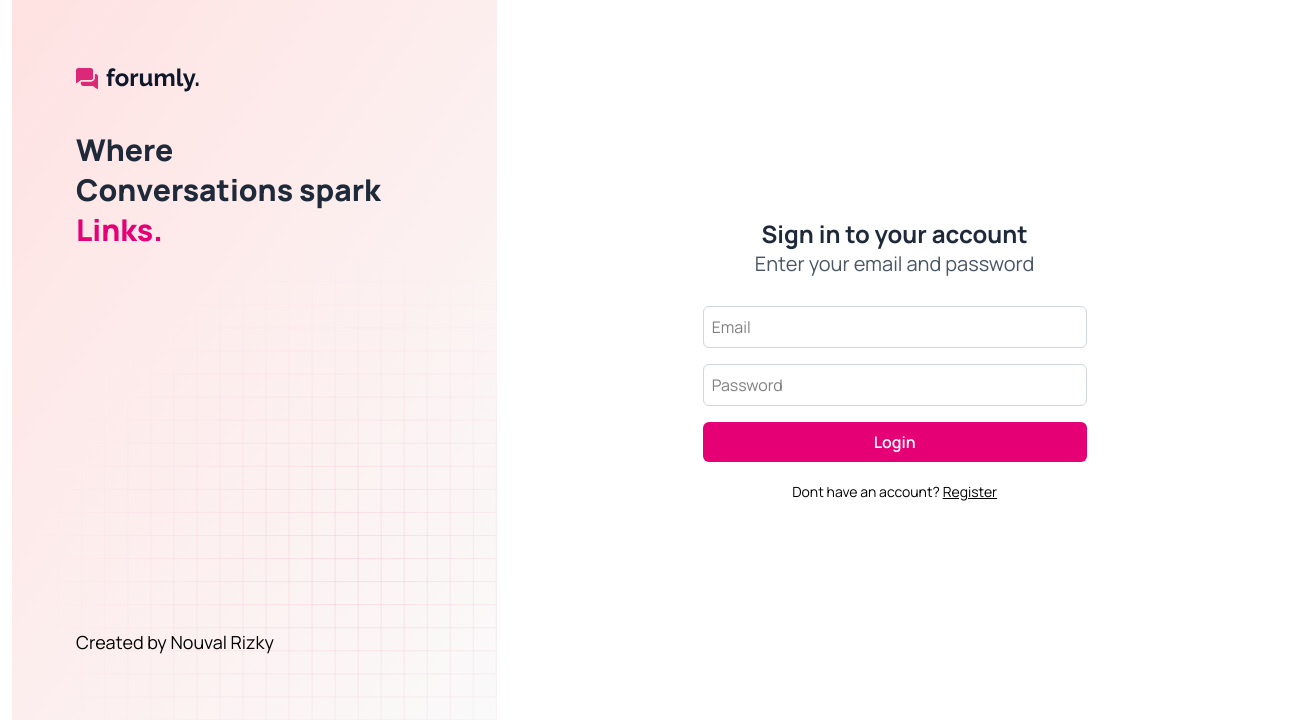
Test: Login spec › should display error message when email is empty
Click the button "Login": (895, 442) top-left (703, 422), bottom-right (1087, 462)
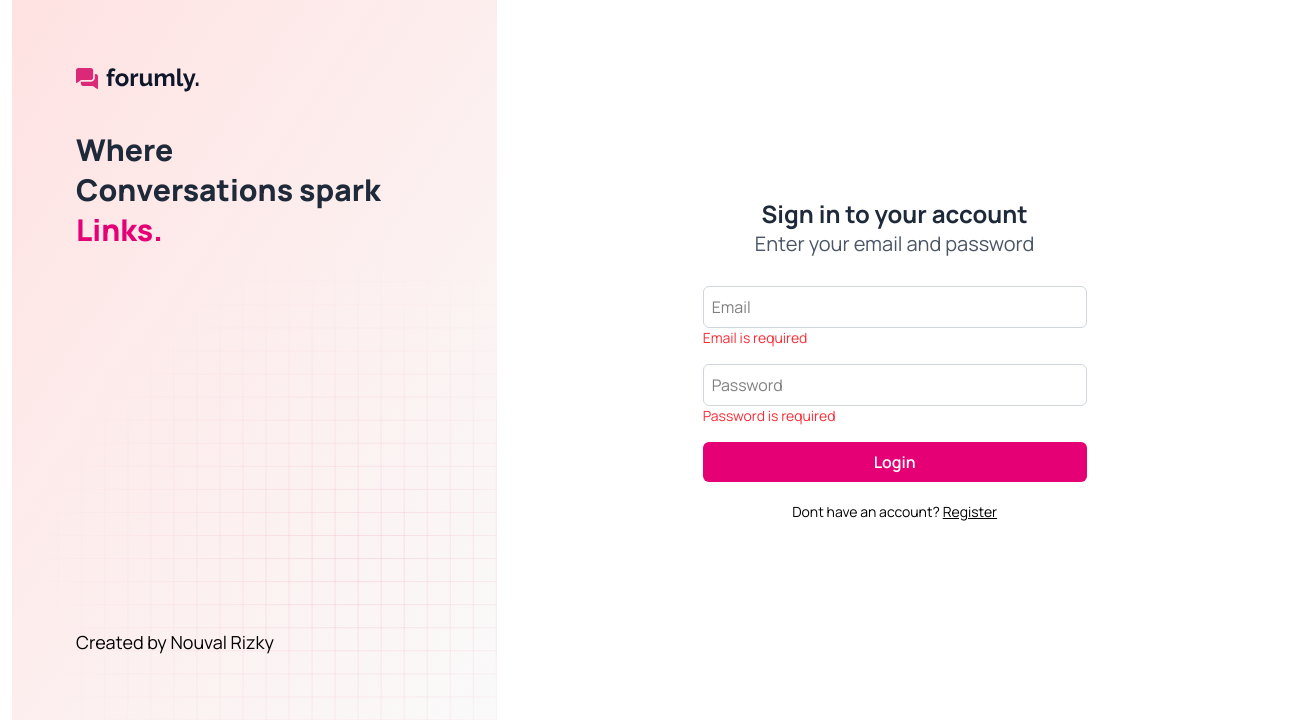
Expected: the text "Email is required" is shown, top-left (703, 328), bottom-right (808, 347)
